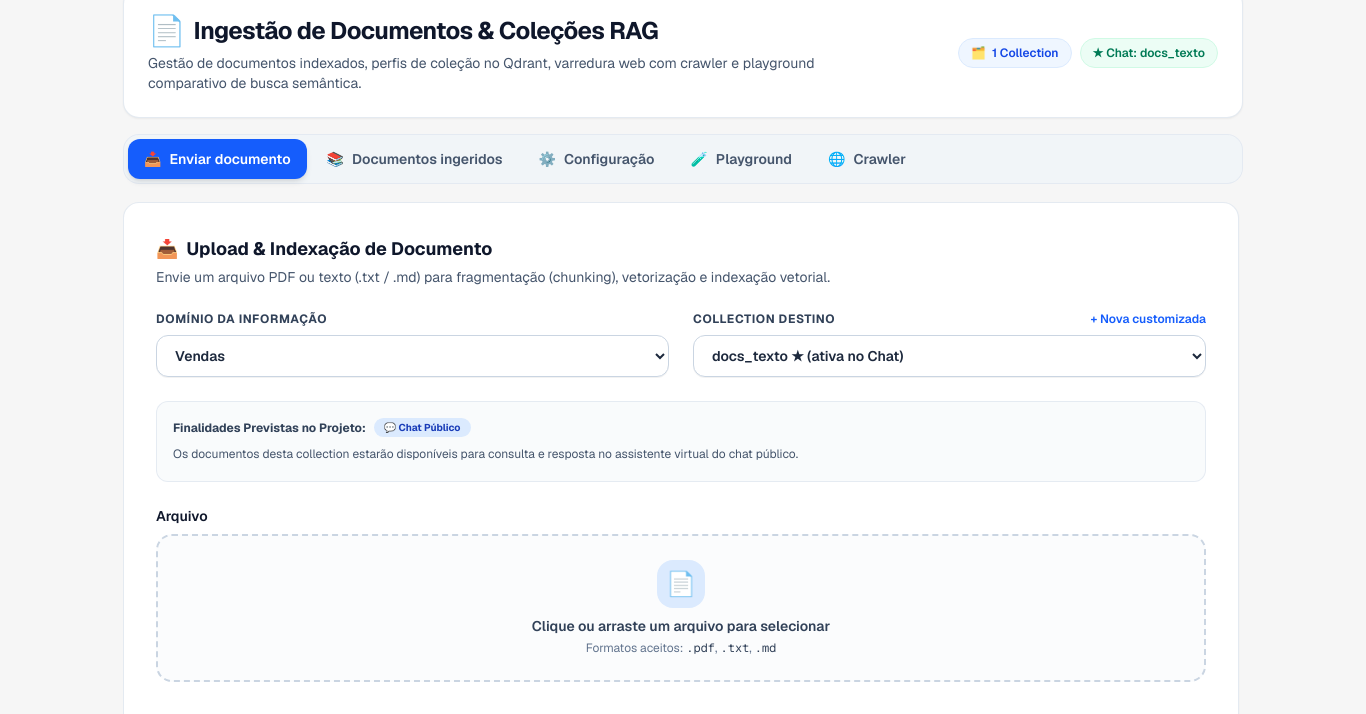
Test case: IngestaoDocumentosPage › aba 'Configuração' não fica mais desabilitada e lista as collections
Click the tab "⚙️ Configuração". click: (596, 159)
box: [523, 139, 670, 179]
(page scrolled)
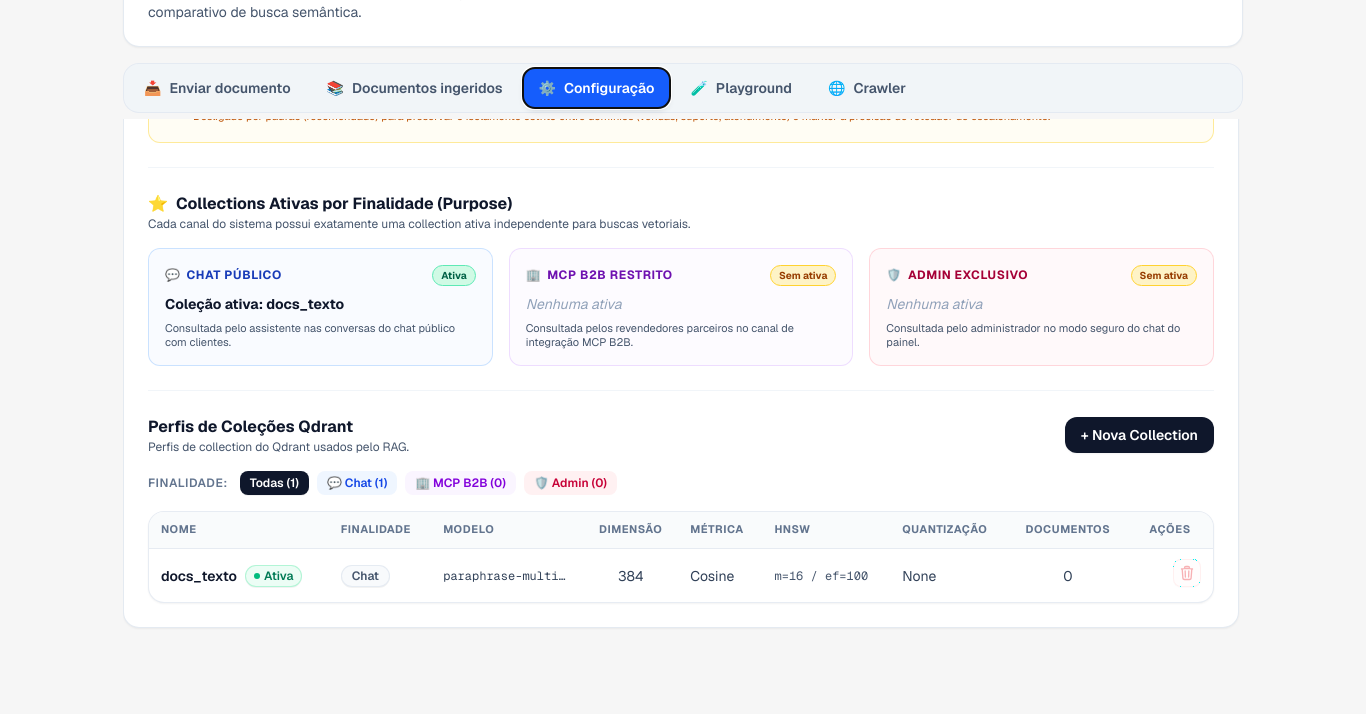
Check: the text "docs_texto" is shown, box [161, 566, 237, 586]
